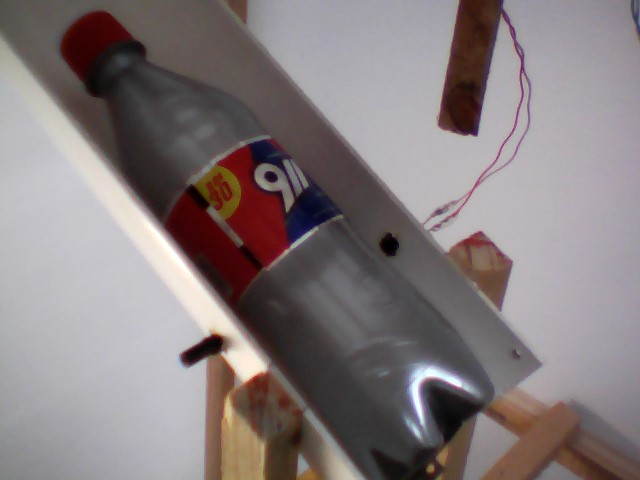plastico: (51, 5, 502, 480)
